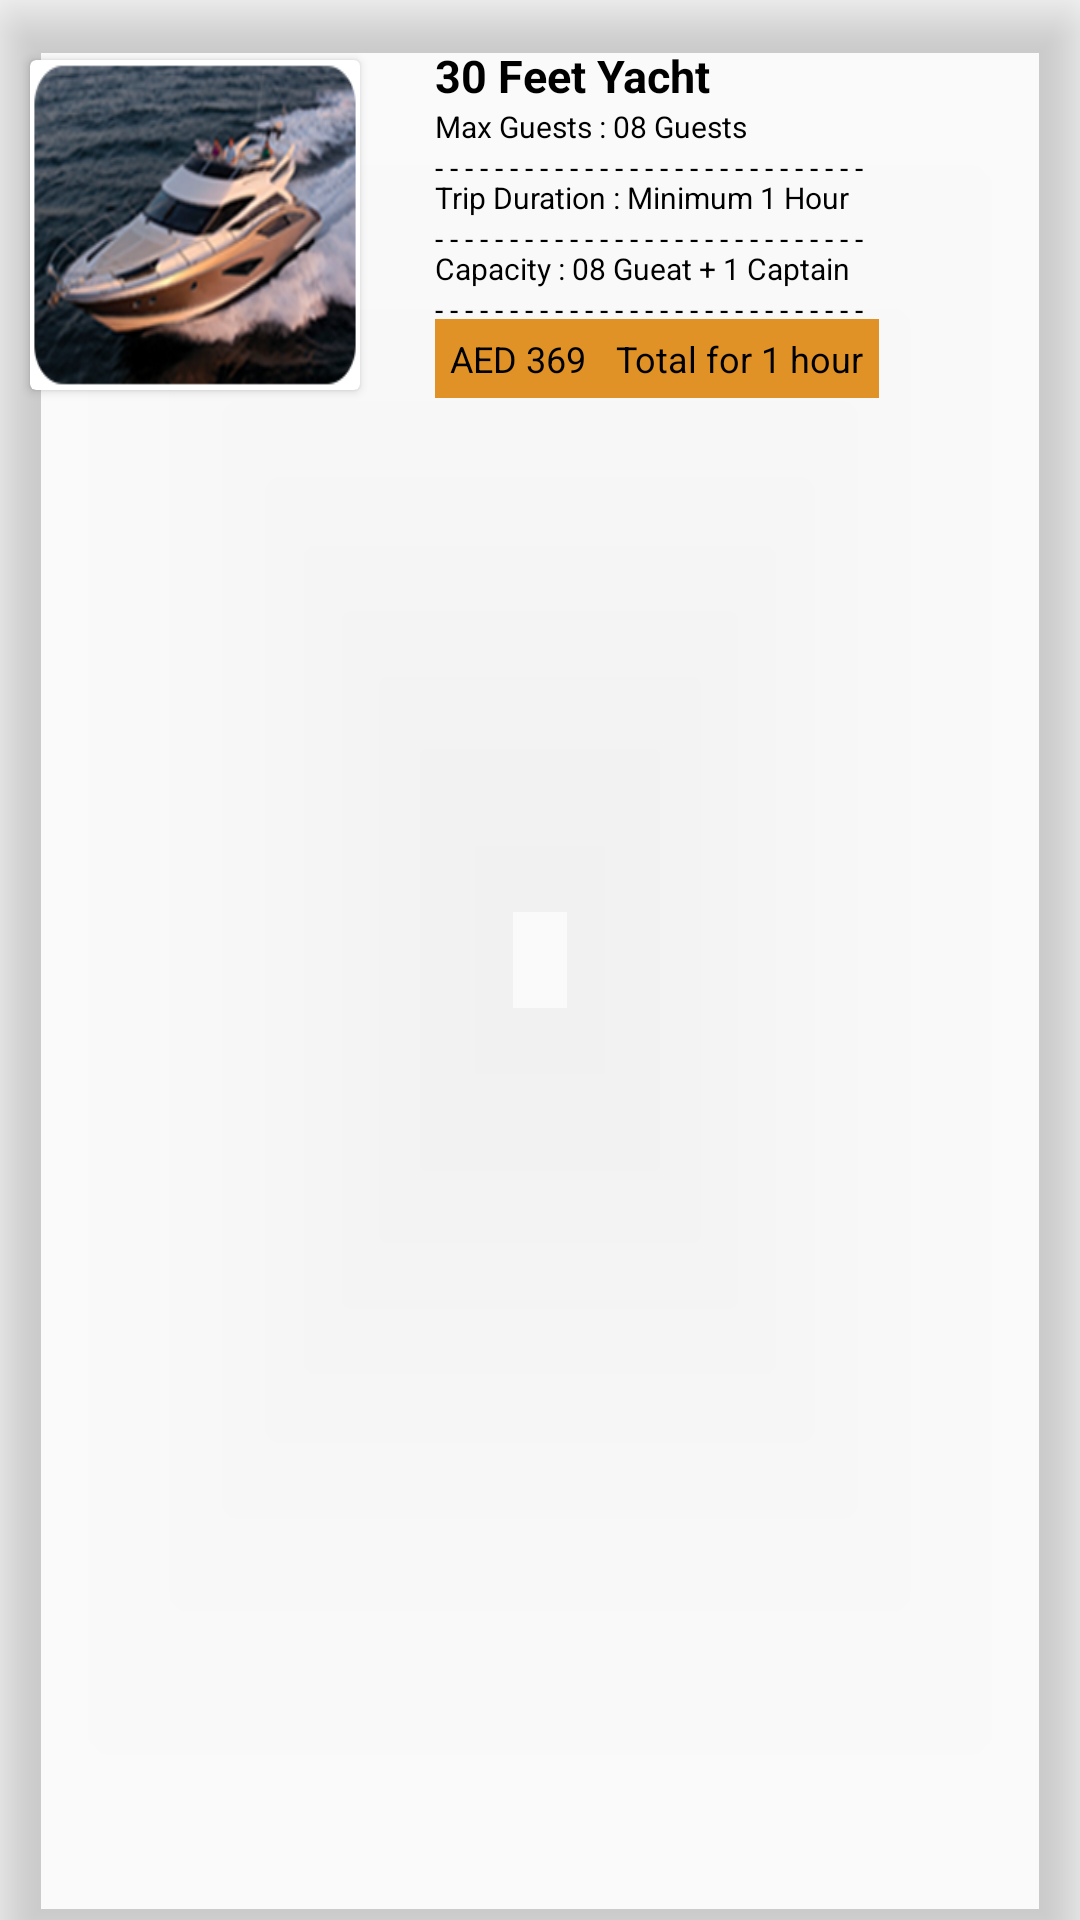

Point at icon controls on the screen. Image size 1080*1920, points as (x,y).
product one: (195,225)
